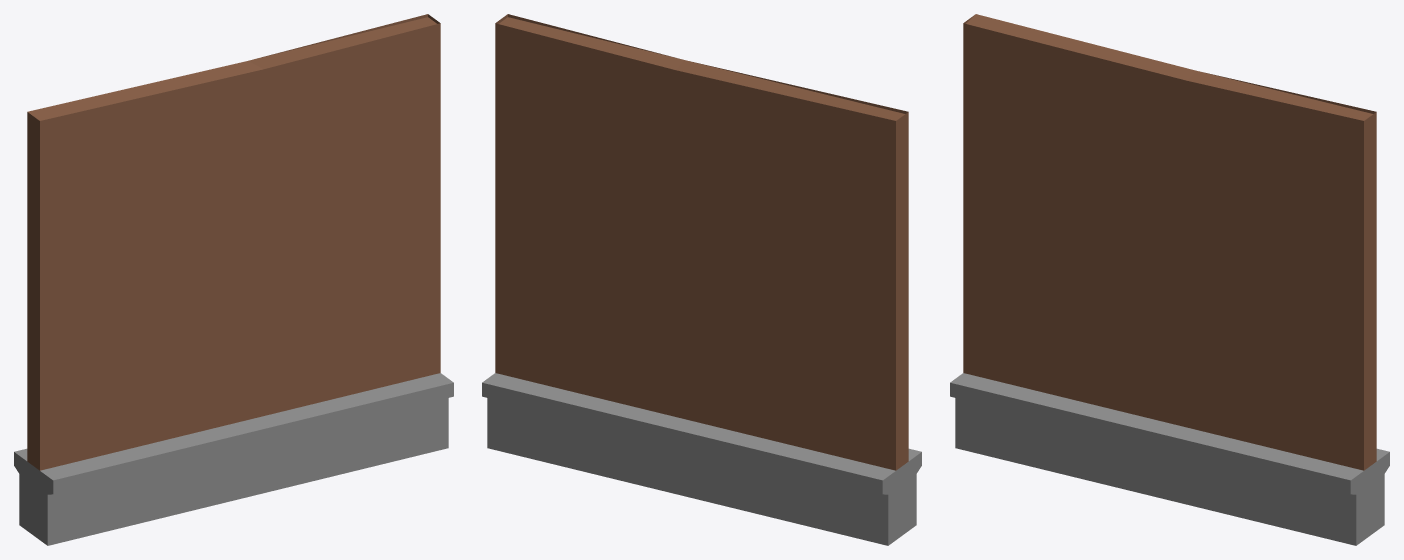
File: Brick_Fence.fbx
The picture shows the model from 3 angles, left to right: view 1: azimuth 30°, elevation 25°; view 2: azimuth 150°, elevation 25°; view 3: azimuth 330°, elevation 25°; orthographic projection.
Visible parts, largest first — view 1: Fence_Brick; view 2: Fence_Brick; view 3: Fence_Brick.
Part boxes in pixels (x1,y1,x2,y2): Fence_Brick: (14, 14, 453, 545); Fence_Brick: (482, 14, 921, 545); Fence_Brick: (950, 14, 1389, 545).
Bounding box in the file's own units: 299 × 299 × 50.54.
